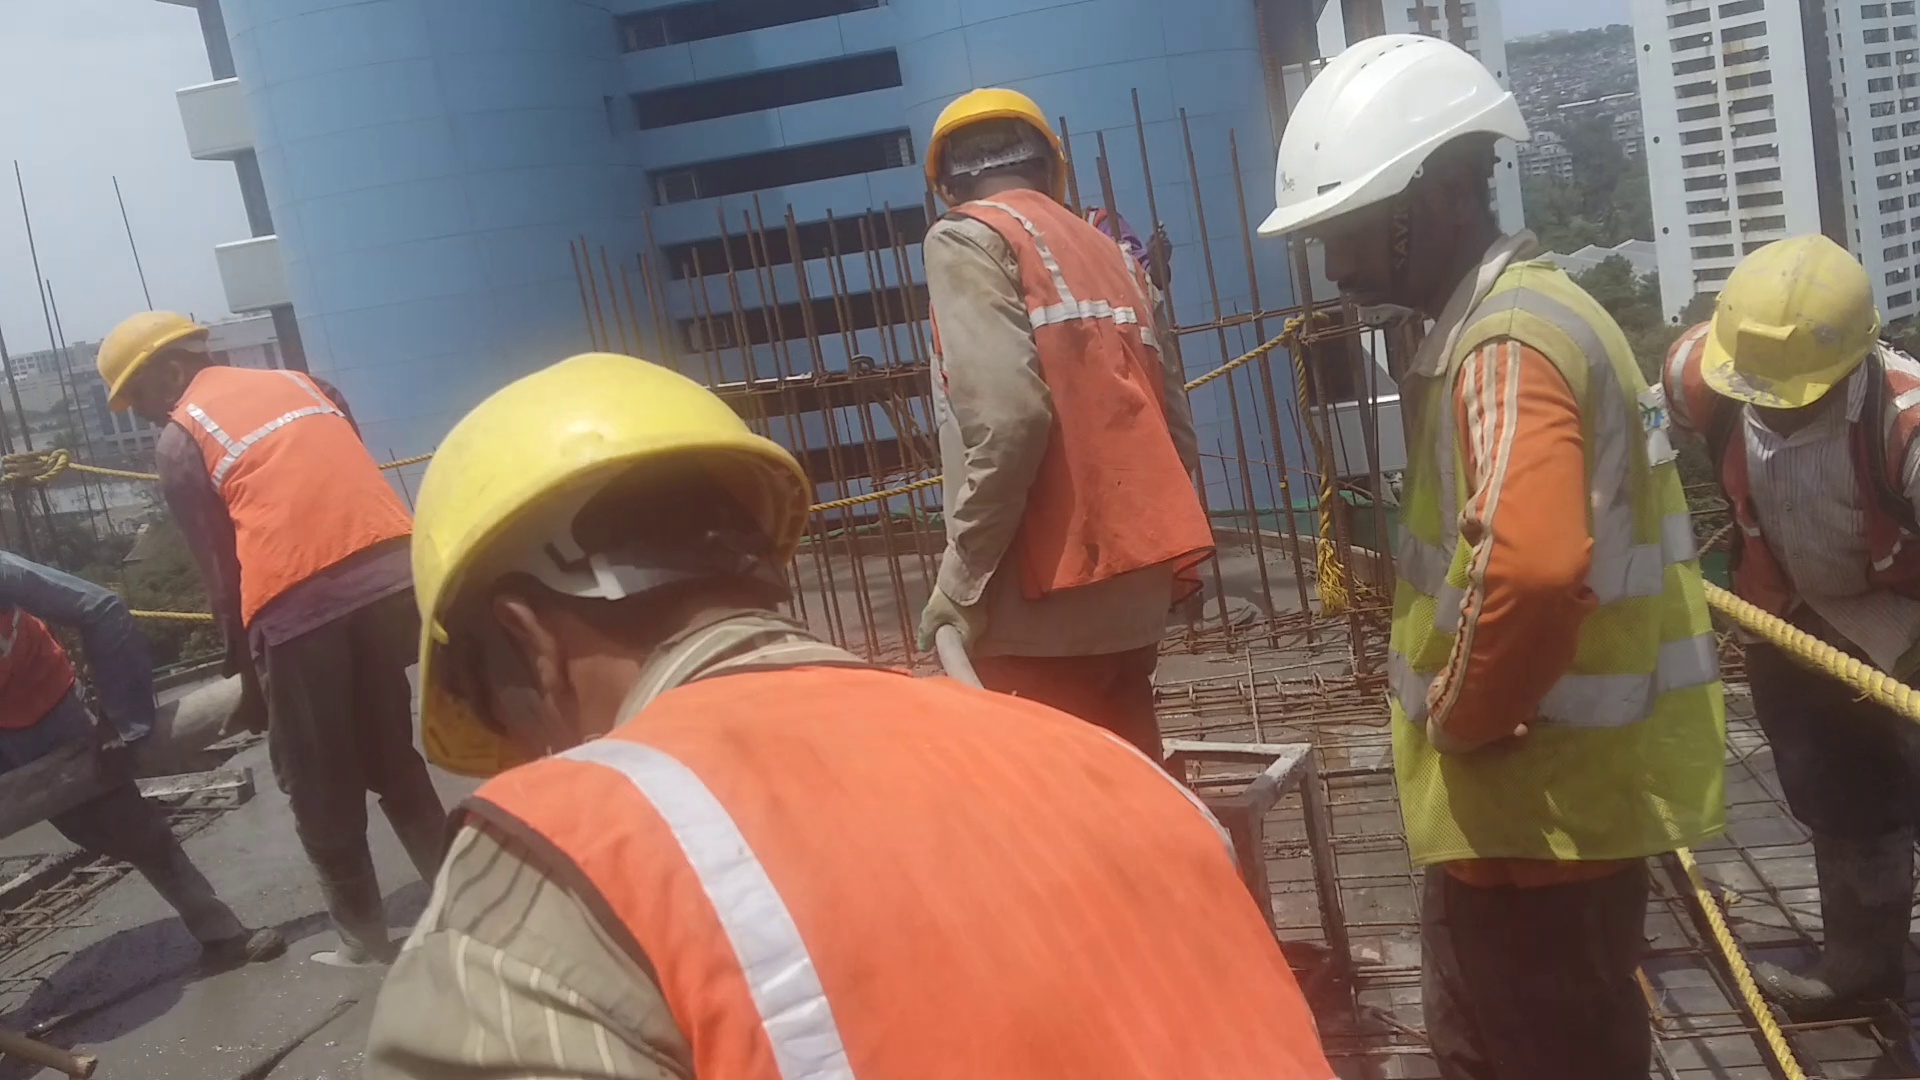SAFE: (363, 347, 886, 1080), (1280, 36, 1691, 868), (923, 70, 1167, 584), (1681, 225, 1920, 661), (95, 298, 396, 595)
